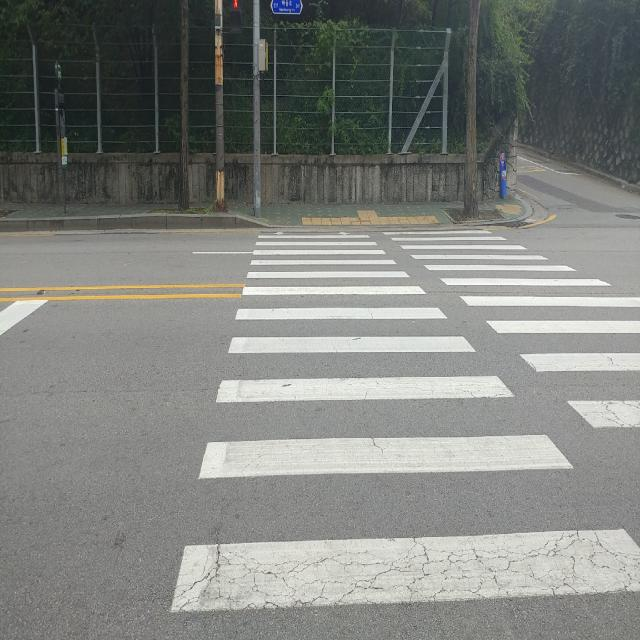빨간불: (230, 0, 240, 32)
횡단보도: (169, 227, 640, 620)
